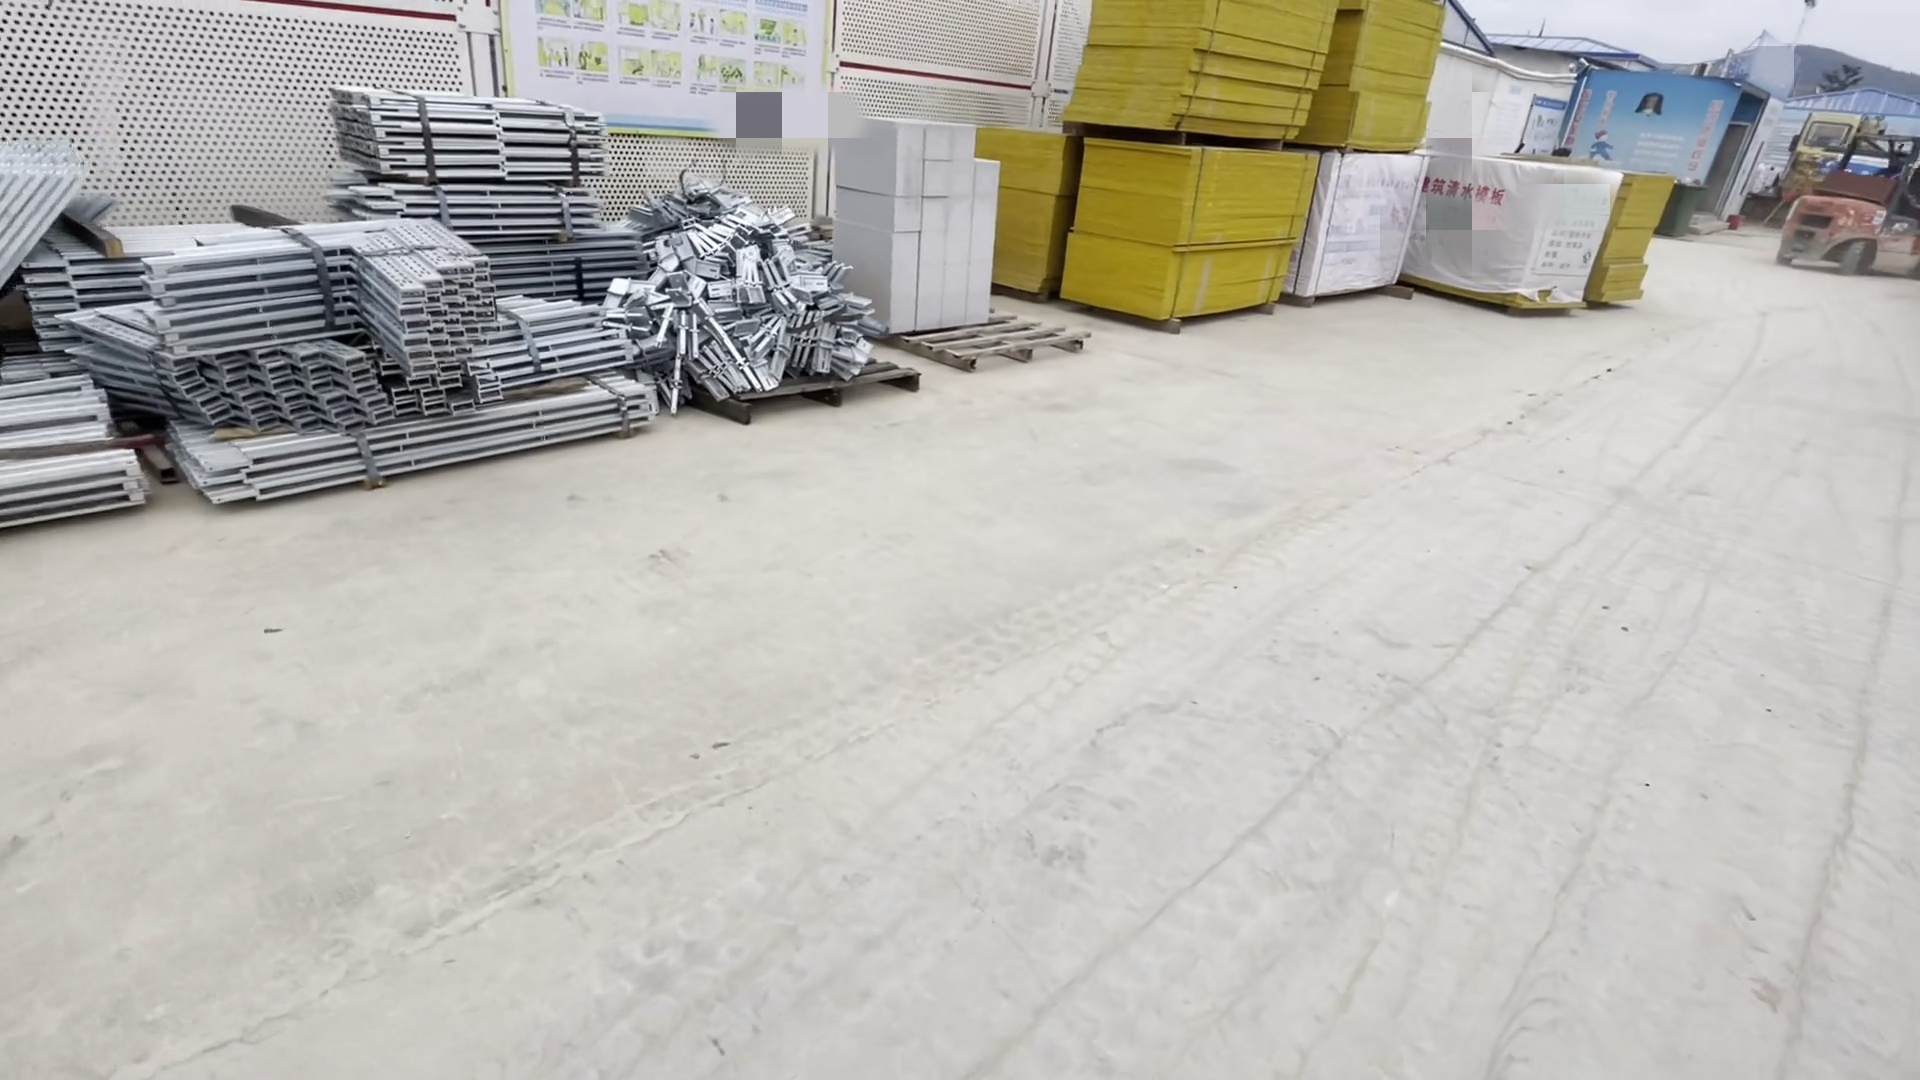board: (1067, 3, 1315, 322)
brick: (829, 109, 1006, 340)
scaffold: (1, 84, 638, 542)
